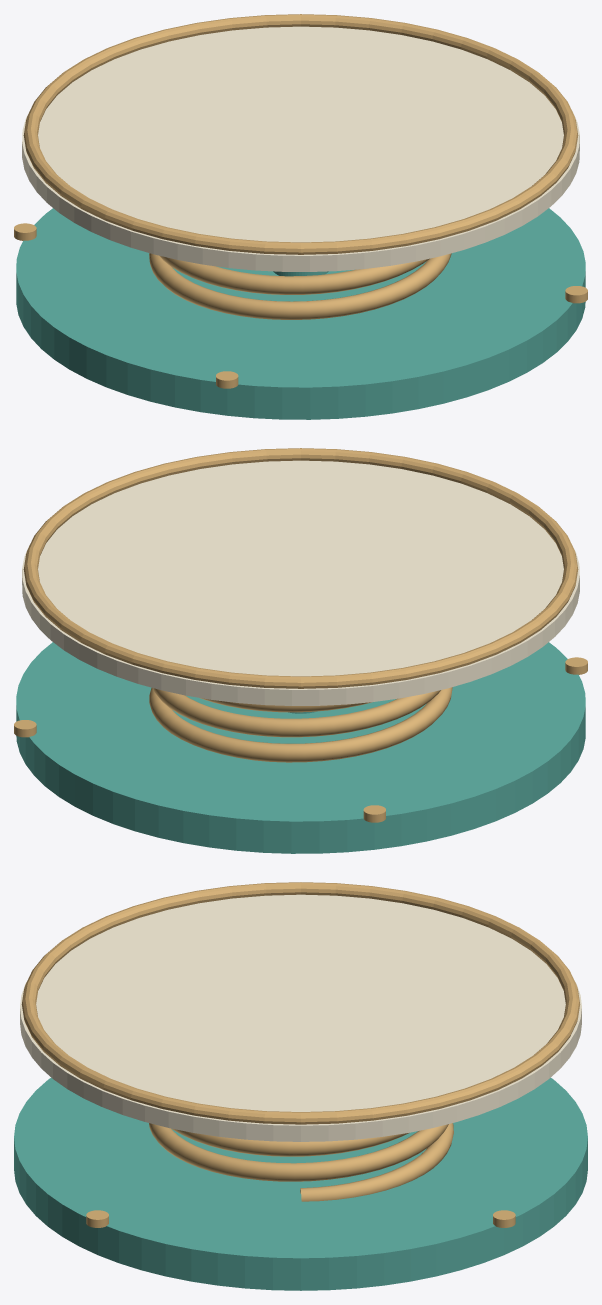
File: spring_server.glb
The picture shows the model from 3 angles, top to bottom: view 1: azimuth 30°, elevation 25°; view 2: azimuth 150°, elevation 25°; view 3: azimuth 270°, elevation 25°; orthographic projection.
Visible parts, largest first — view 1: Porcelain serving plate, Enamel base, Brass plate rim, Visible brass spring; view 2: Porcelain serving plate, Enamel base, Brass plate rim, Visible brass spring; view 3: Porcelain serving plate, Enamel base, Brass plate rim, Visible brass spring.
Part boxes in pixels (x1,y1,x2,y2): Porcelain serving plate: [22, 26, 579, 271]; Enamel base: [16, 208, 585, 419]; Brass plate rim: [23, 14, 578, 254]; Visible brass spring: [149, 253, 451, 319]; Porcelain serving plate: [22, 460, 579, 705]; Enamel base: [16, 642, 585, 853]; Brass plate rim: [23, 448, 578, 688]; Visible brass spring: [149, 687, 452, 762]; Porcelain serving plate: [20, 894, 581, 1141]; Enamel base: [14, 1077, 587, 1290]; Brass plate rim: [21, 882, 580, 1124]; Visible brass spring: [149, 1123, 453, 1201].
Bounding box in the file's own units: 9.6 × 3.17 × 9.6.
